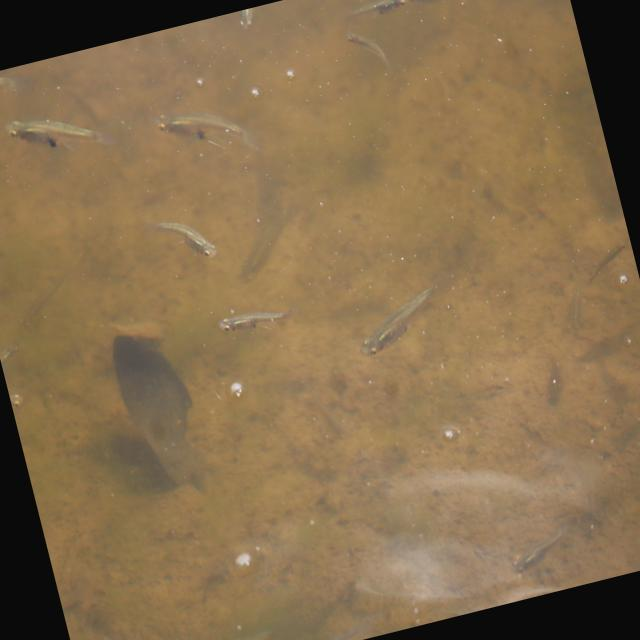Sivrisinek Baligi: (148, 72, 262, 180), (351, 278, 464, 368), (2, 92, 114, 174), (150, 196, 229, 276), (210, 288, 300, 352), (510, 519, 575, 580), (340, 16, 392, 74), (580, 235, 632, 288), (381, 0, 468, 26)
